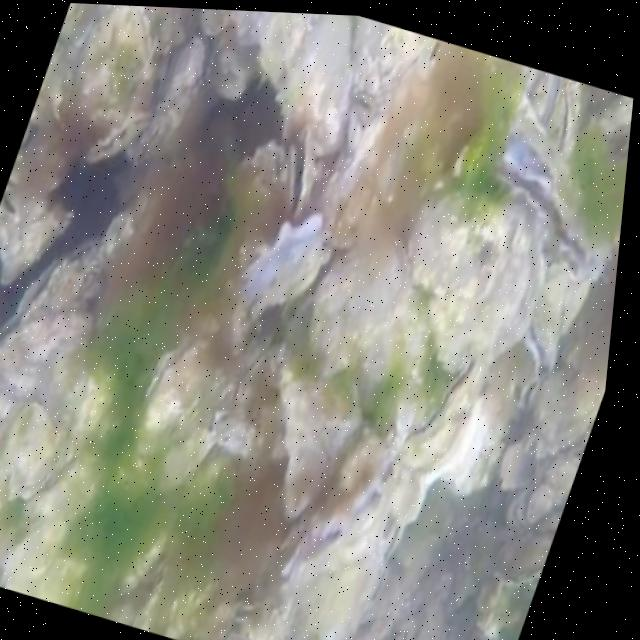Oyster-Closed: (408, 188, 544, 373), (0, 306, 94, 425), (70, 5, 152, 130), (2, 237, 106, 332), (401, 355, 488, 466), (138, 337, 216, 453), (351, 16, 433, 104), (1, 402, 68, 500), (249, 11, 320, 84), (233, 342, 284, 419), (160, 27, 206, 105), (86, 110, 153, 162), (546, 78, 581, 155), (528, 71, 563, 126), (362, 559, 389, 615), (382, 523, 403, 560)
Oyster-Indeterminate: (311, 234, 433, 406), (279, 350, 367, 512), (276, 14, 355, 162), (134, 581, 178, 638), (501, 446, 535, 490), (416, 594, 446, 640), (525, 485, 552, 526)
Oyster-Open: (491, 158, 617, 269), (244, 214, 325, 315), (523, 265, 567, 381), (281, 514, 348, 589), (494, 123, 557, 185), (351, 457, 400, 534), (285, 129, 316, 223), (519, 376, 540, 414)
